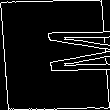M_W: (3, 31, 107, 79)
